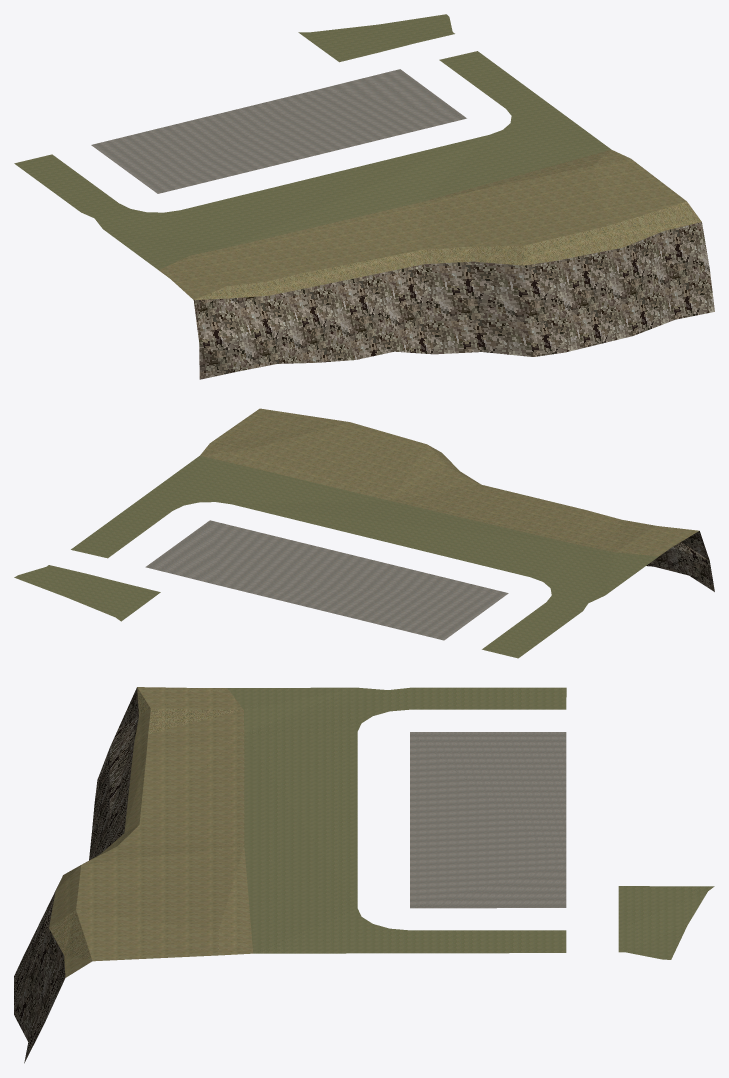
File: lodecoast06.obj
The picture shows the model from 3 angles, top to bottom: view 1: azimuth 30°, elevation 25°; view 2: azimuth 150°, elevation 25°; view 3: azimuth 270°, elevation 25°; orthographic projection. The views are drawn at different scales.
Parts seen in each view (by area): view 1: lodEcoast06; view 2: lodEcoast06; view 3: lodEcoast06.
Boxes of the visible parts, bbox=[...] form: lodEcoast06: bbox=[14, 14, 714, 379]; lodEcoast06: bbox=[14, 408, 714, 658]; lodEcoast06: bbox=[14, 687, 714, 1063].
Size of the model in its own units: 251 by 46.79 by 269.
Materials: 4 (4 with a texture image).
